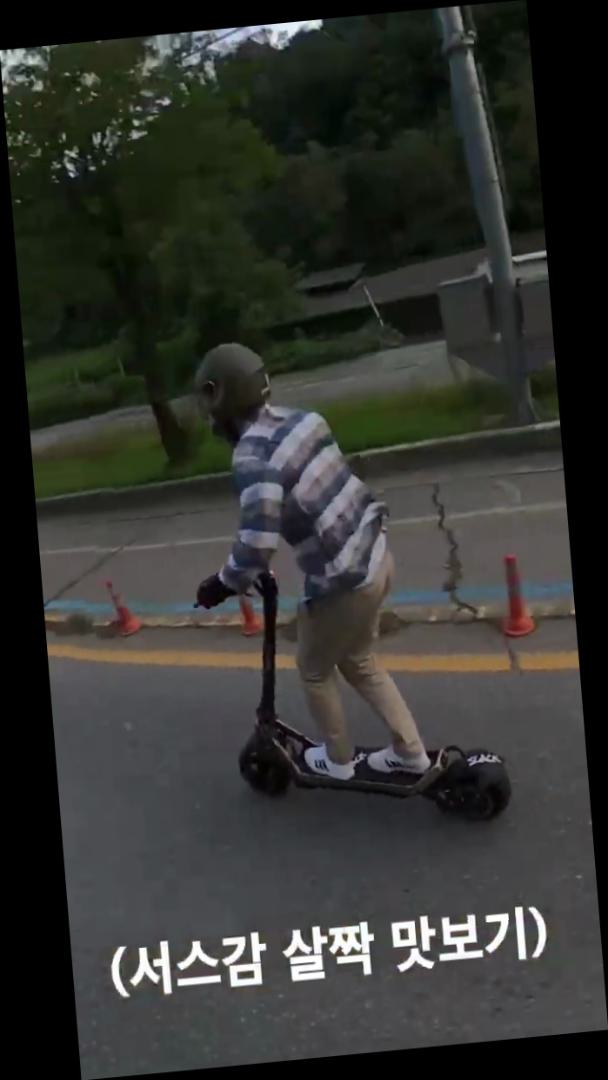helmet: (167, 314, 518, 855)
